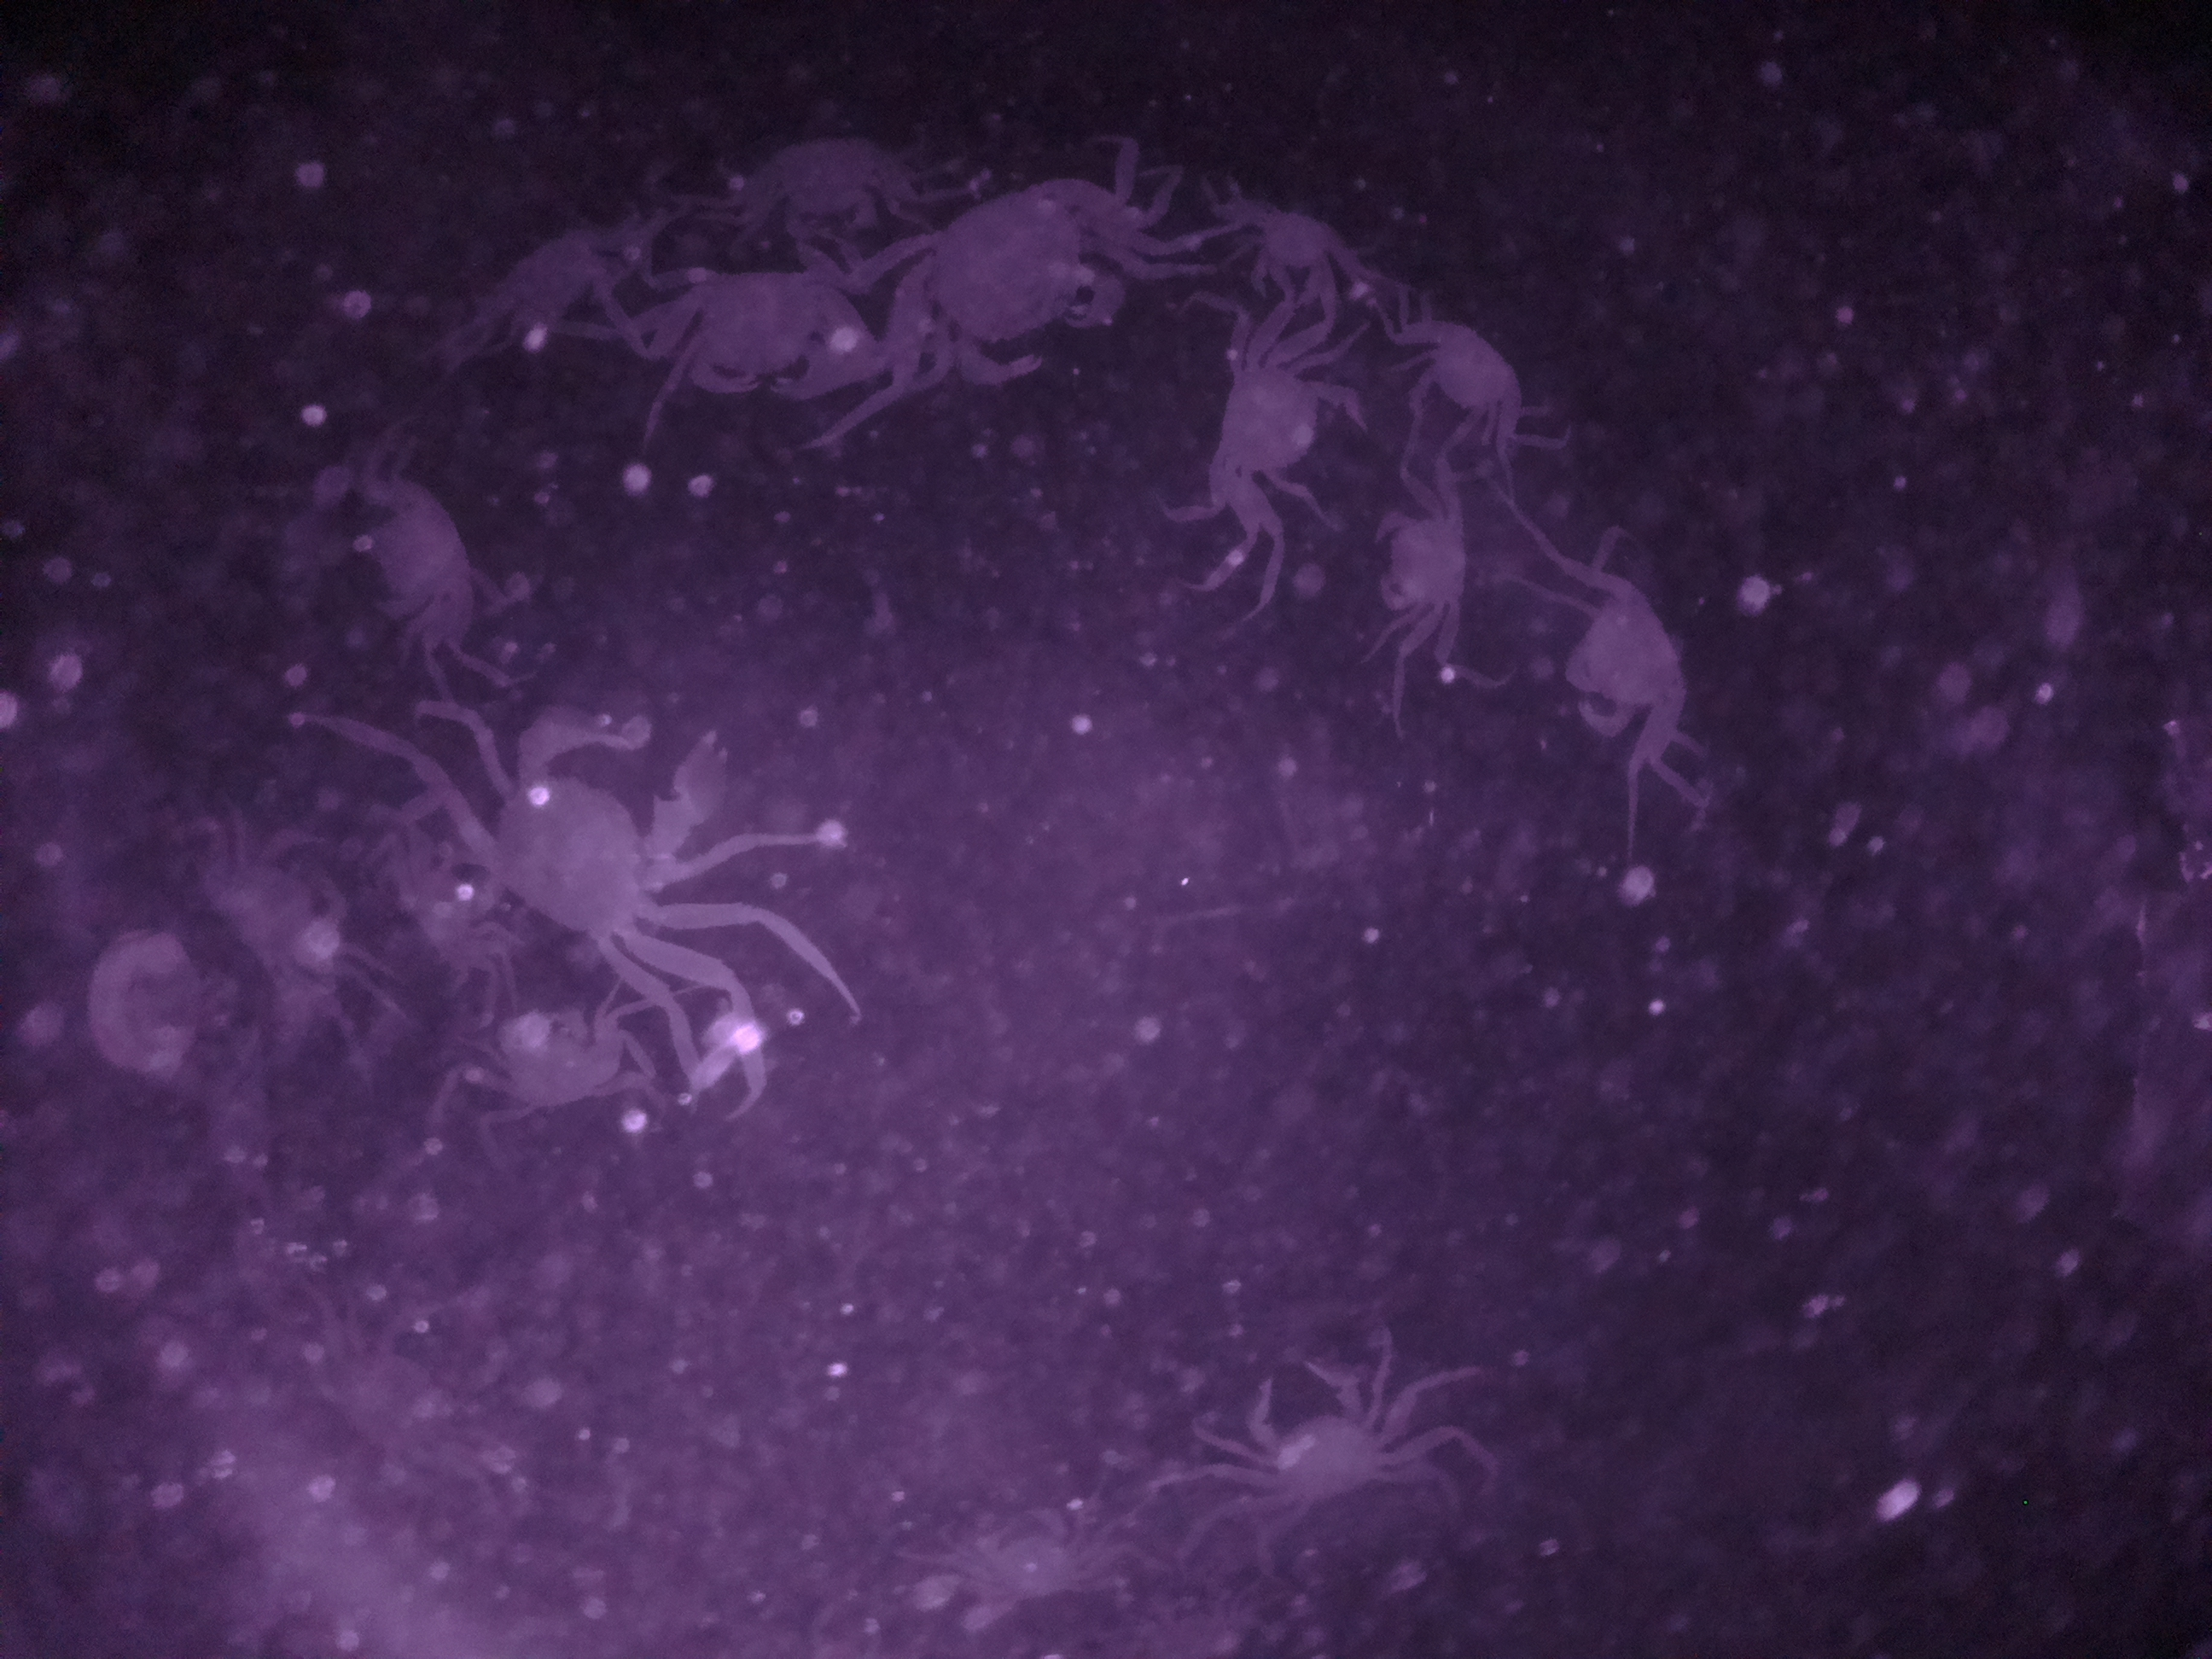Crab: (488, 674, 758, 993), (885, 169, 1153, 397), (1212, 1338, 1425, 1535), (634, 239, 881, 397), (1191, 345, 1376, 523), (1548, 556, 1700, 751), (1392, 305, 1538, 460), (1348, 493, 1494, 638)
